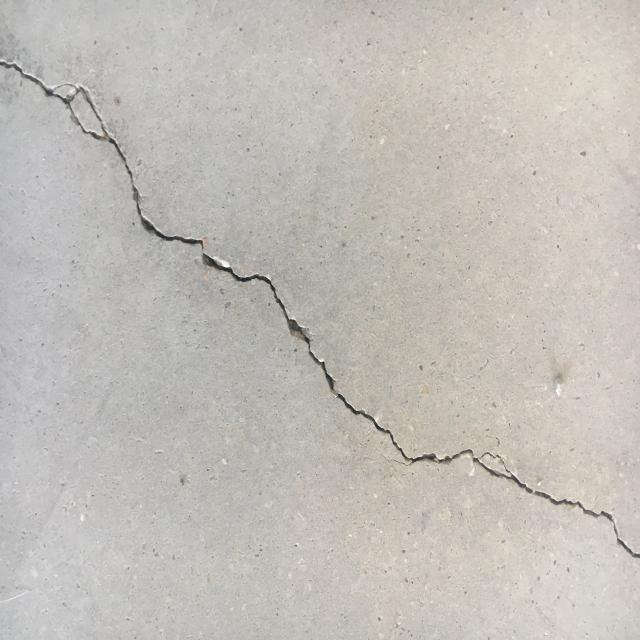Rachadura: (0, 56, 640, 562)
